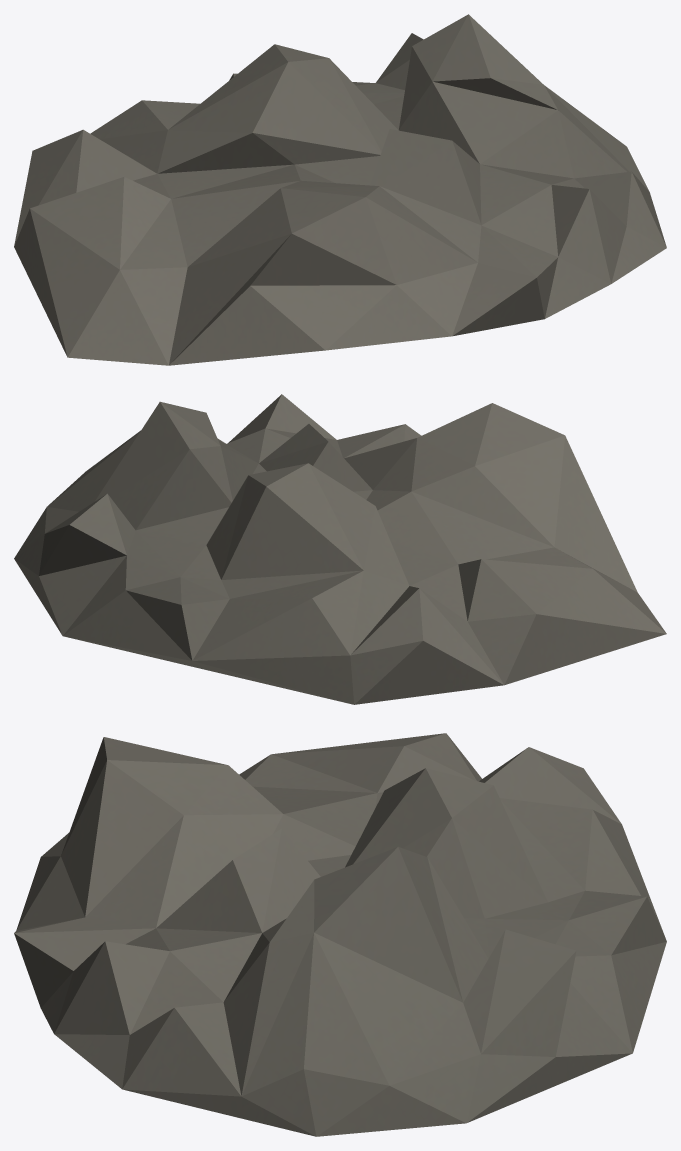
Rendered from Rock_2.fbx.
The picture shows the model from 3 angles, top to bottom: view 1: azimuth 30°, elevation 25°; view 2: azimuth 150°, elevation 25°; view 3: azimuth 270°, elevation 25°; orthographic projection. The views are drawn at different scales.
Parts seen in each view (by area): view 1: Group6604; view 2: Group6604; view 3: Group6604.
Boxes of the visible parts, box(x1,y1,x2,y2) form: Group6604: box(14, 14, 666, 365); Group6604: box(14, 394, 666, 704); Group6604: box(14, 733, 666, 1136).
Size of the model in its own units: 405 by 115 by 321.
Materials: 1 (1 with a texture image).
